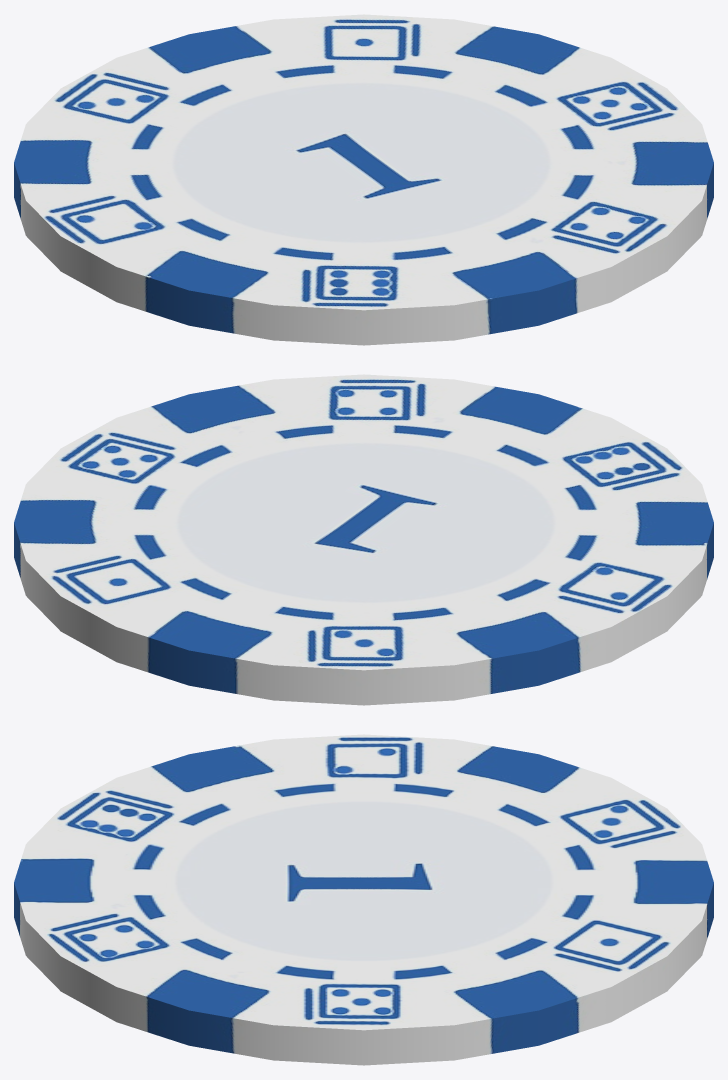
Rendered from chip.glb.
3 renders of one model, top to bottom at view 1: azimuth 30°, elevation 25°; view 2: azimuth 150°, elevation 25°; view 3: azimuth 270°, elevation 25°, orthographic.
Visible parts, largest first — view 1: chip_1; view 2: chip_1; view 3: chip_1.
Part boxes in pixels (box(x1,y1,x2,y2)): chip_1: box(14, 14, 713, 345); chip_1: box(14, 374, 713, 705); chip_1: box(14, 734, 713, 1065).
Size of the model in its own units: 5.89 by 0.3272 by 5.89.
Materials: 1 (1 with a texture image).
